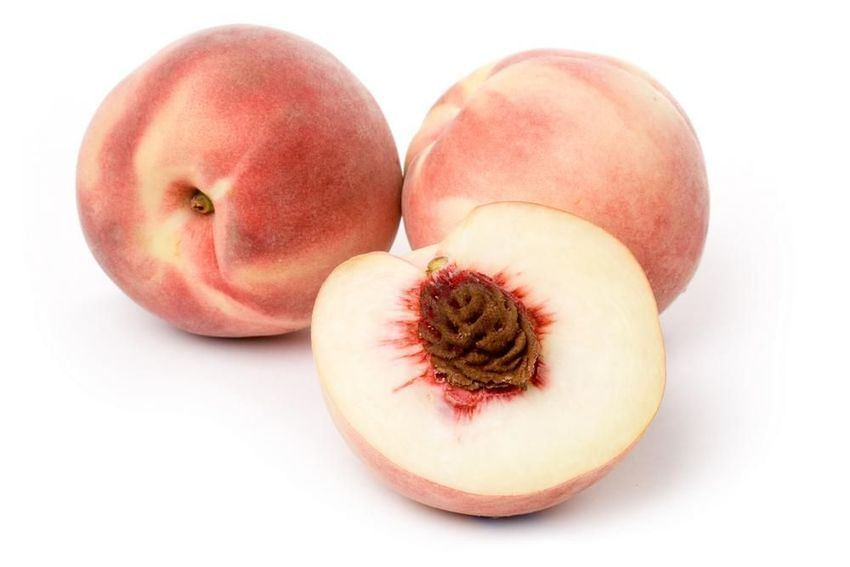peach: (308, 201, 667, 522), (72, 24, 402, 343)
